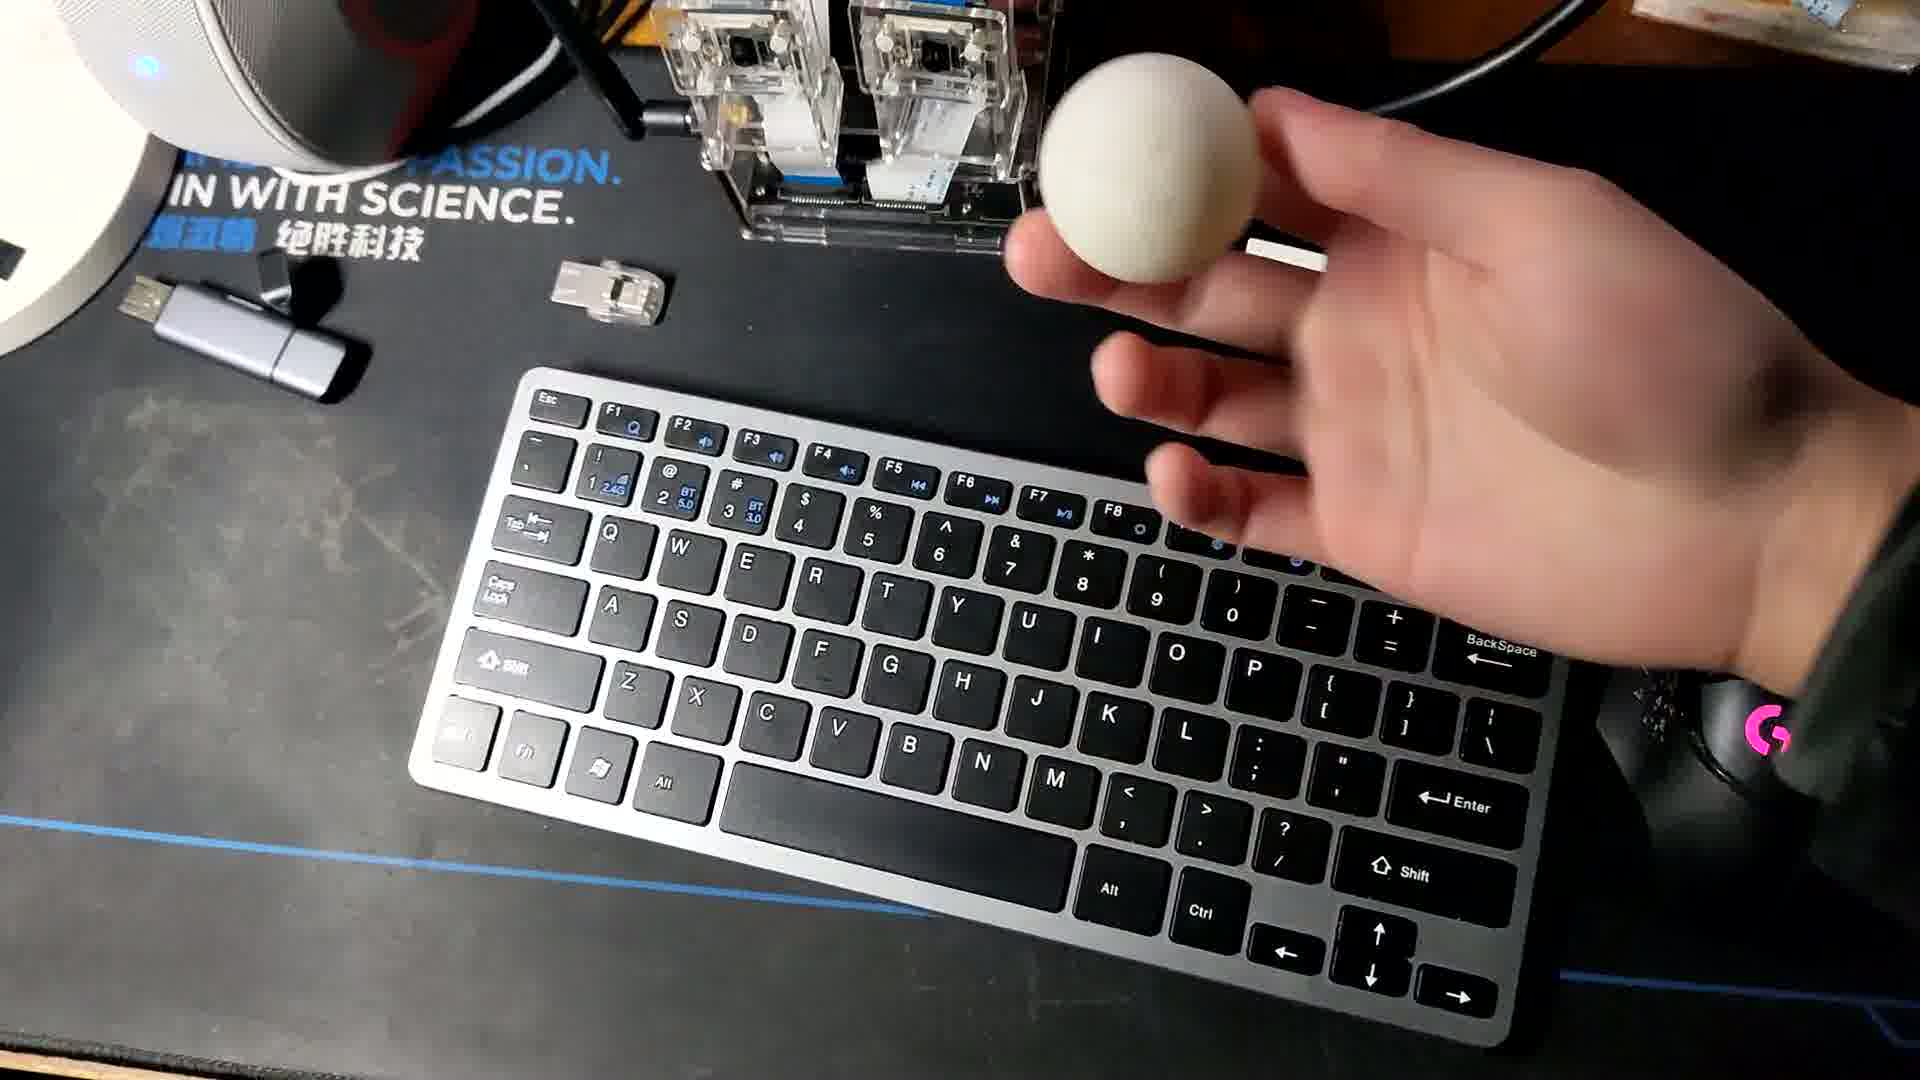Ball: (1043, 53, 1255, 286)
